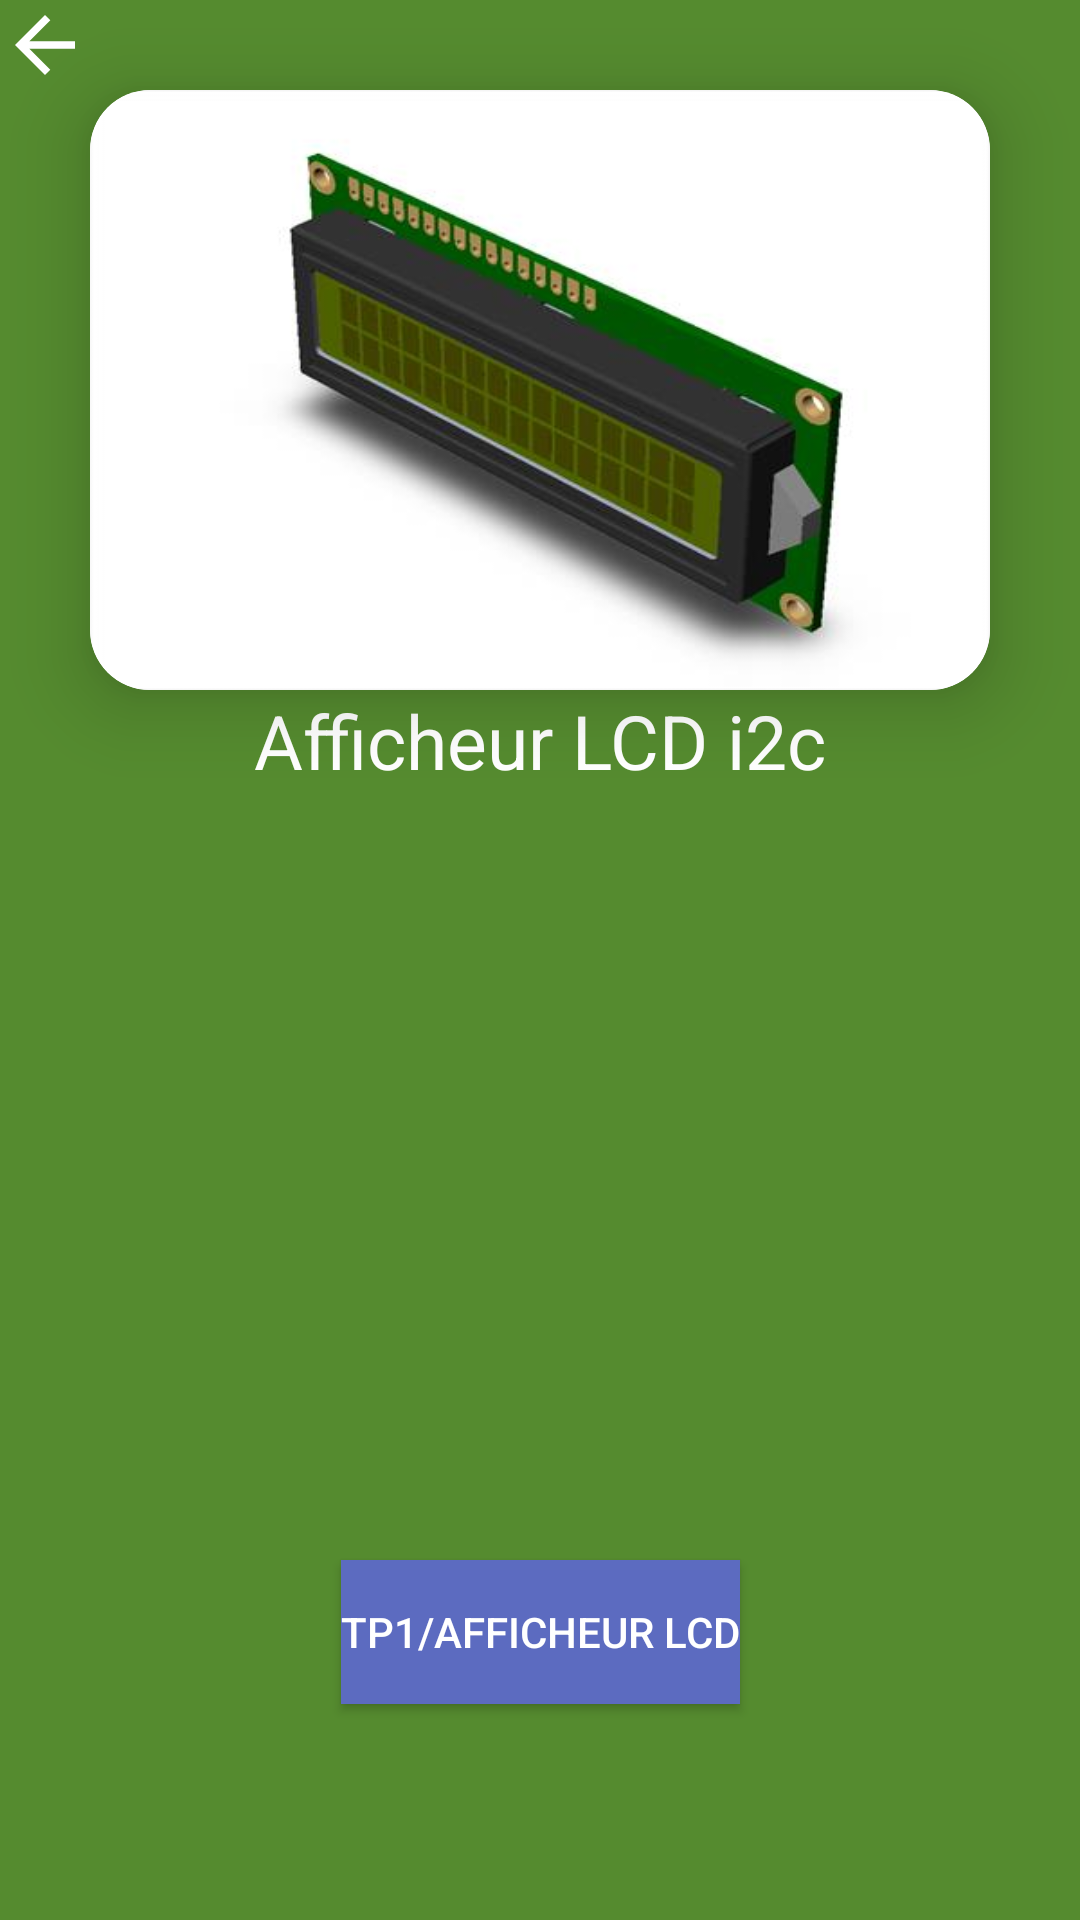

Locate icon controls on the screen. Image size 1080w x 1920h, boxes as {"x1": x1, "y1": y1, "x2": x2, "y2": y2}.
ret: {"x1": 15, "y1": 15, "x2": 75, "y2": 75}
